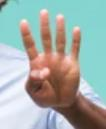right: (14, 8, 81, 110)
